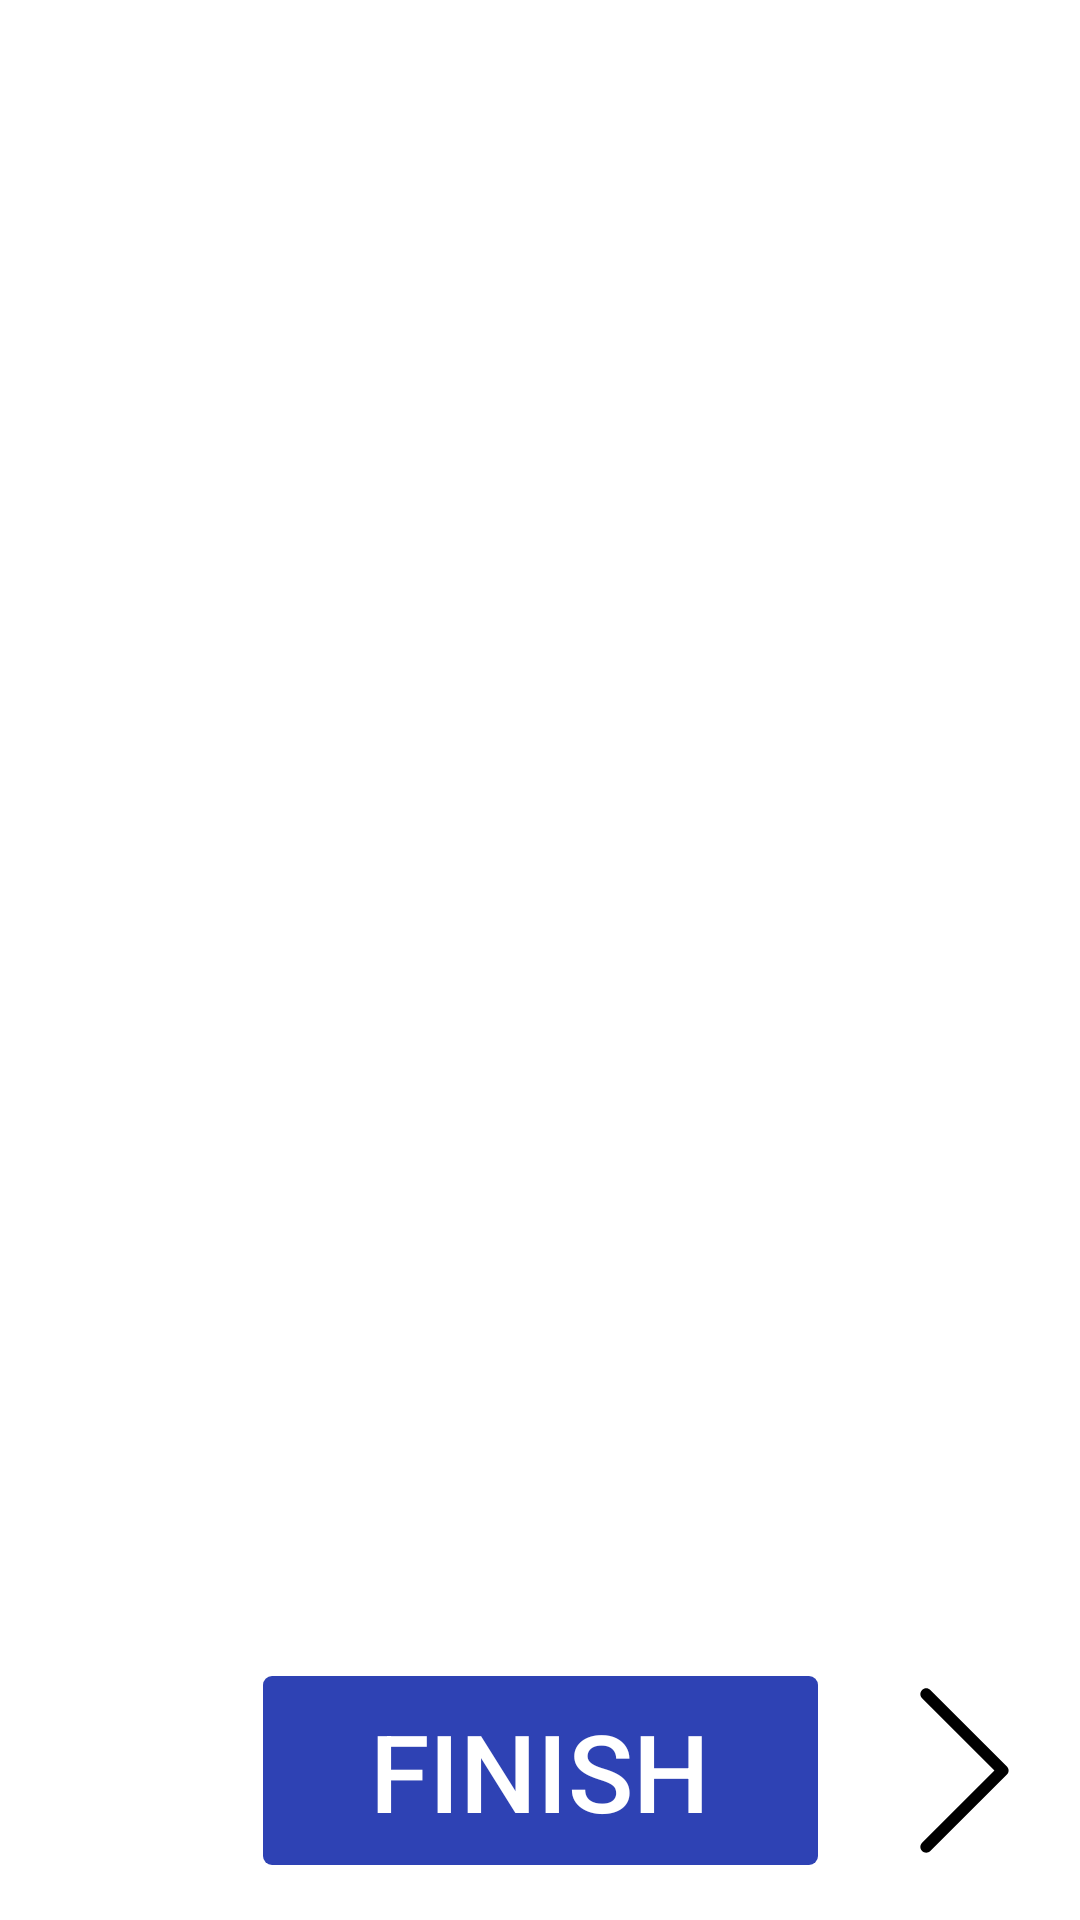

Icons on this 1080×1920 Android screen, each with its box as (x1, y1, x2, y2):
right arrow: (920, 1688, 1009, 1853)
